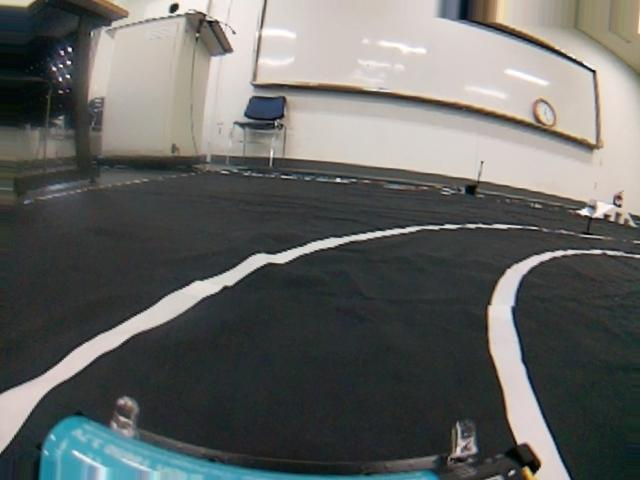right: (2, 219, 640, 480)
